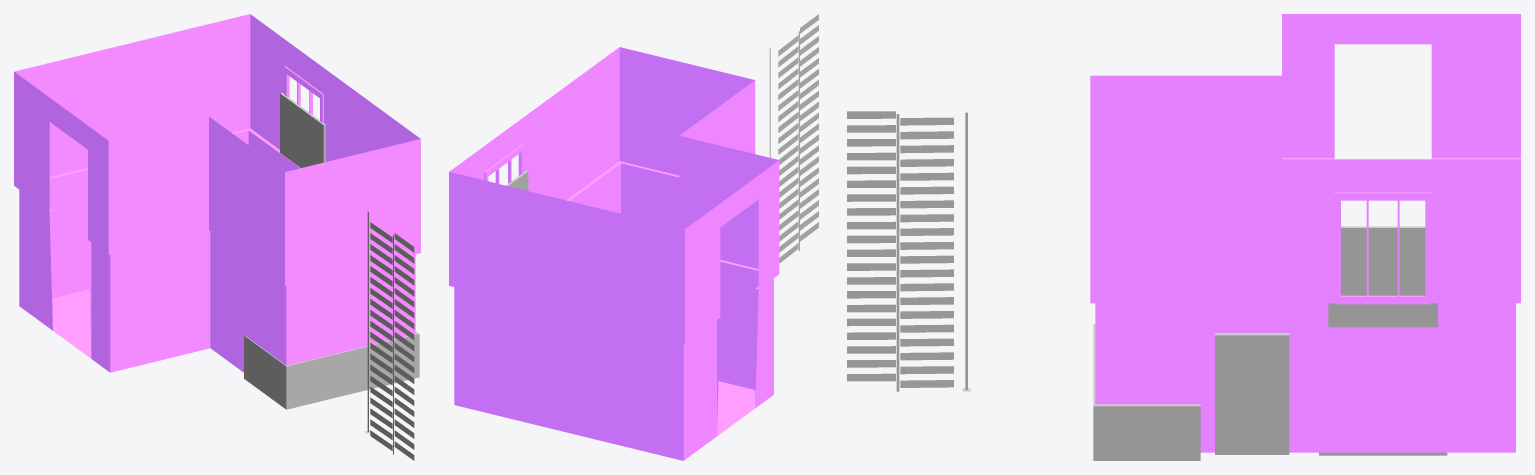
Rendered from bath.fbx.
3 renders of one model, left to right at view 1: azimuth 30°, elevation 25°; view 2: azimuth 150°, elevation 25°; view 3: azimuth 270°, elevation 25°, orthographic. The views are drawn at different scales.
Visible parts, largest first — view 1: walls, tub, plant1, Cube.003, stem.001; view 2: walls, plant1; view 3: walls, plant1, toilet, Cube.003, tub, stem.001.
Boxes of the visible parts, x1,y1,x2,y2 form: walls: [14, 14, 420, 372]; tub: [244, 331, 419, 409]; plant1: [370, 222, 414, 460]; Cube.003: [280, 93, 325, 167]; stem.001: [367, 212, 368, 431]; walls: [449, 47, 779, 460]; plant1: [778, 14, 818, 263]; walls: [1090, 14, 1520, 452]; plant1: [847, 111, 953, 391]; toilet: [1215, 333, 1289, 454]; Cube.003: [1328, 226, 1437, 327]; tub: [1093, 324, 1200, 460]; stem.001: [965, 112, 967, 389].
Size of the model in its own units: 630 by 606 by 1227.
